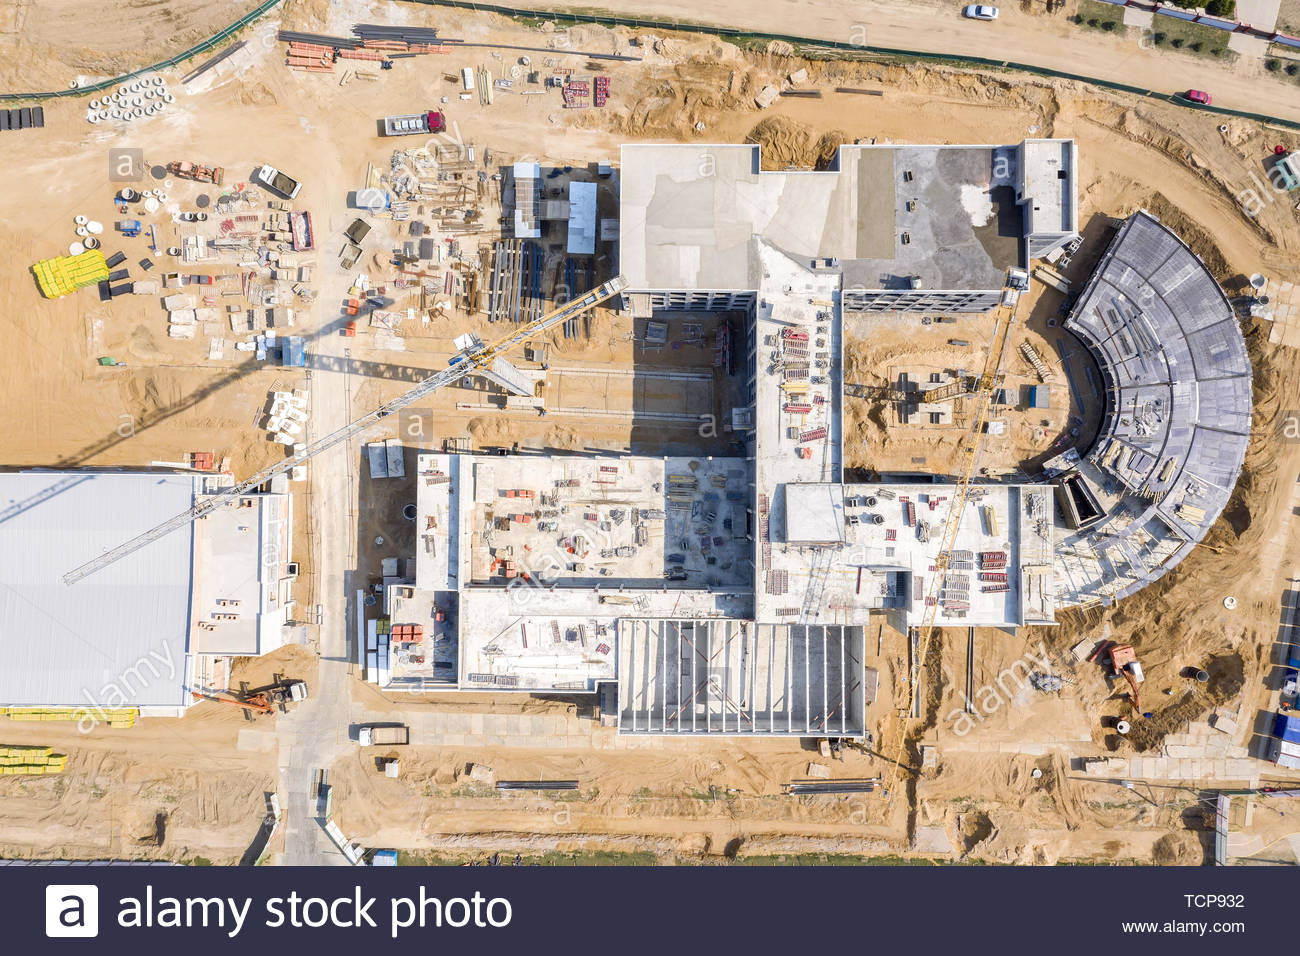crane: (62, 275, 628, 591), (881, 267, 1030, 798)
